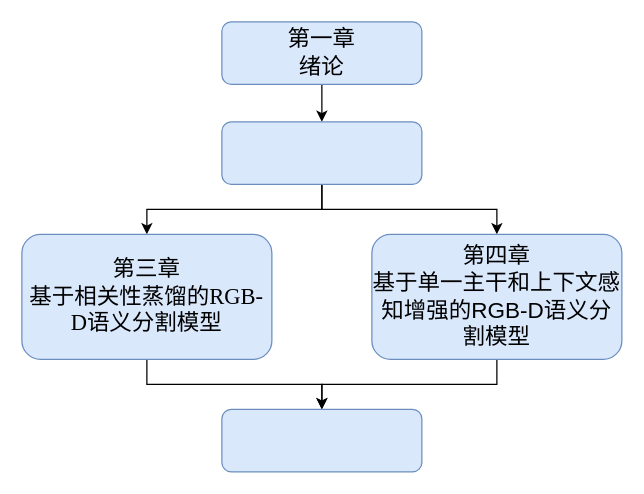
Image size: 644x494. Some labels were removed from this diagram. The centre of each missing label's shape, as x and y in pixels:
"第二章 问题描述与分析" goes at pixel 321 152.
"第五章 总结与展望" goes at pixel 321 440.
